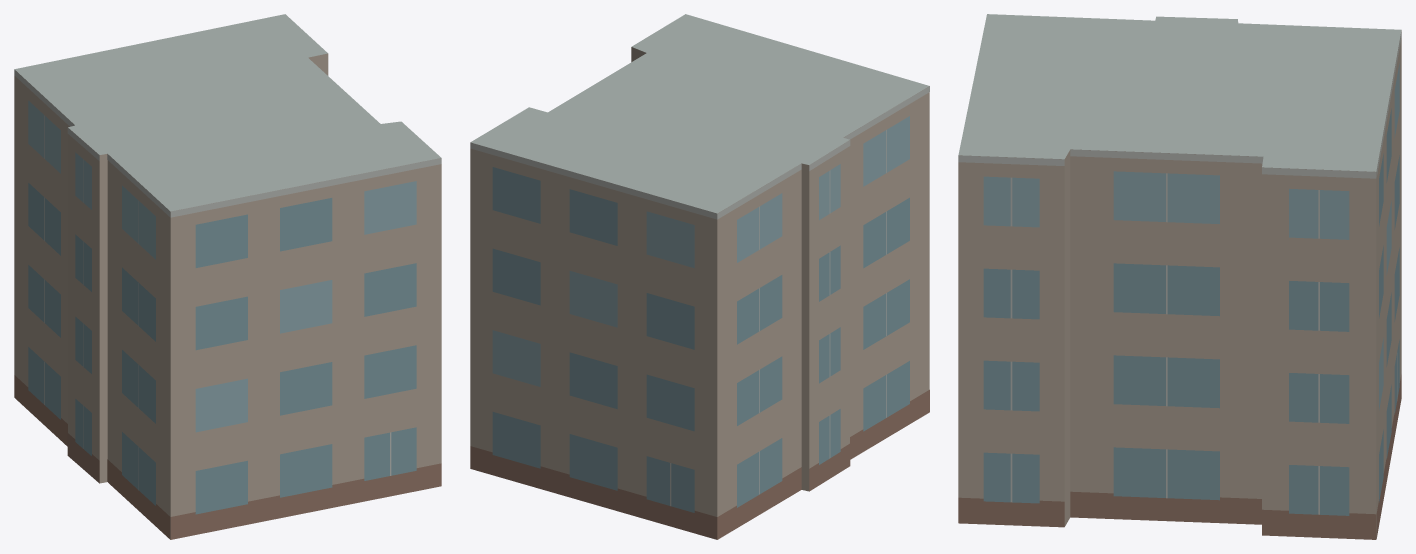
The model's file is survey-upis-32967422.glb.
3 renders of one model, left to right at view 1: azimuth 30°, elevation 25°; view 2: azimuth 150°, elevation 25°; view 3: azimuth 270°, elevation 25°, orthographic. The views are drawn at different scales.
Visible parts, largest first — view 1: survey-upis-32967422.tmp; view 2: survey-upis-32967422.tmp; view 3: survey-upis-32967422.tmp.
Boxes of the visible parts, x1,y1,x2,y2 form: survey-upis-32967422.tmp: (14,14,441,539); survey-upis-32967422.tmp: (470,14,929,539); survey-upis-32967422.tmp: (958,14,1401,539).
Bounding box in the file's own units: 11.96 × 13 × 14.2.
